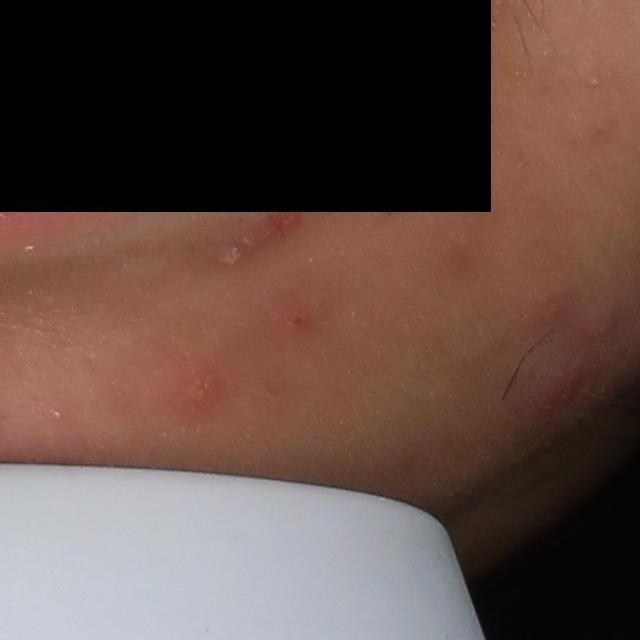papule: (520, 360, 597, 422), (273, 297, 313, 334)
